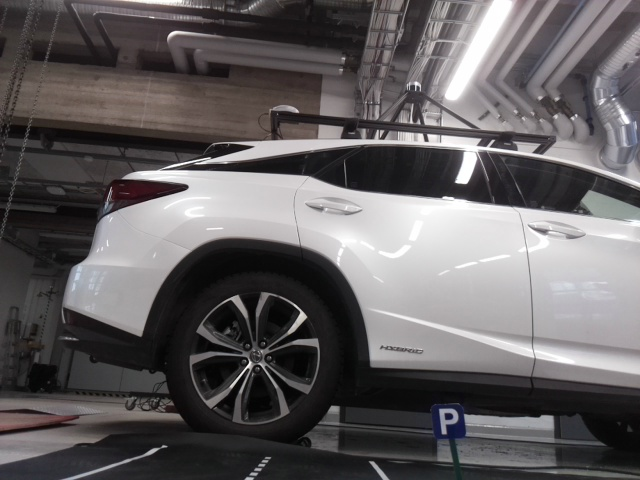Parking: (431, 403, 465, 438)
